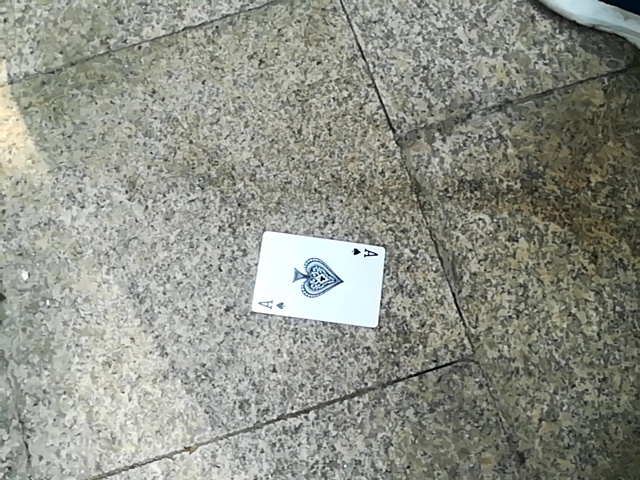ht a: (252, 230, 380, 331)
